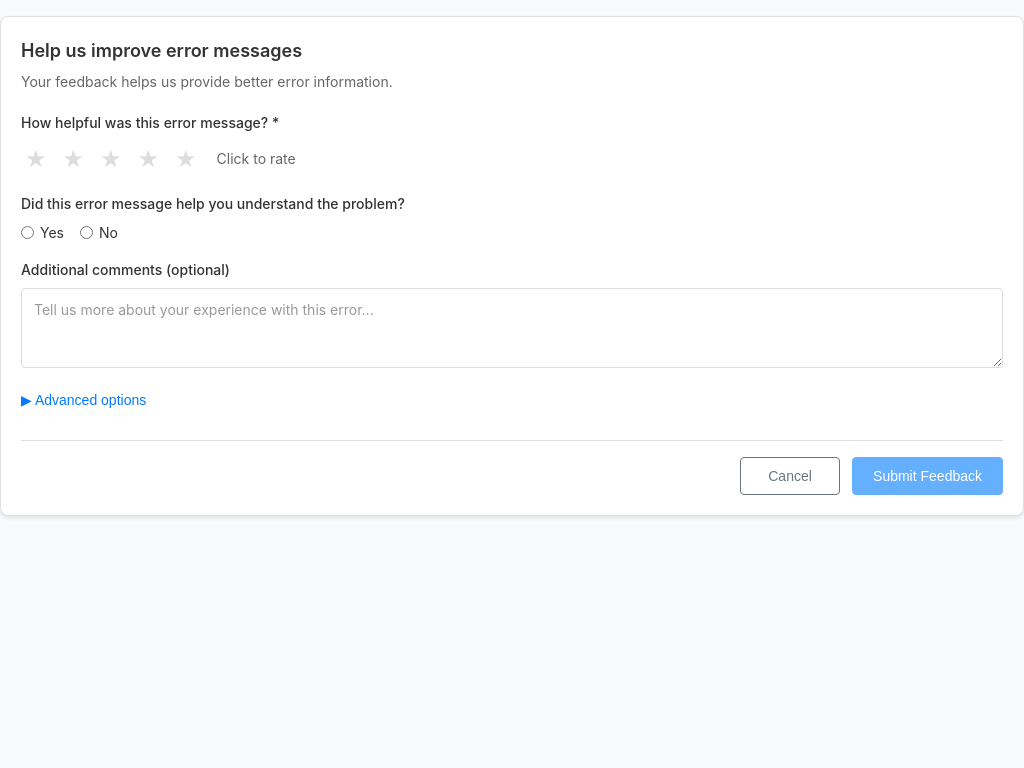
Scenario: ErrorFeedback › Advanced Options › should hide advanced options when toggled off
The width and height of the screenshot is (1024, 768).
Step 1. Click the button "▶ Advanced options" → (89, 400), box [21, 384, 1003, 416]
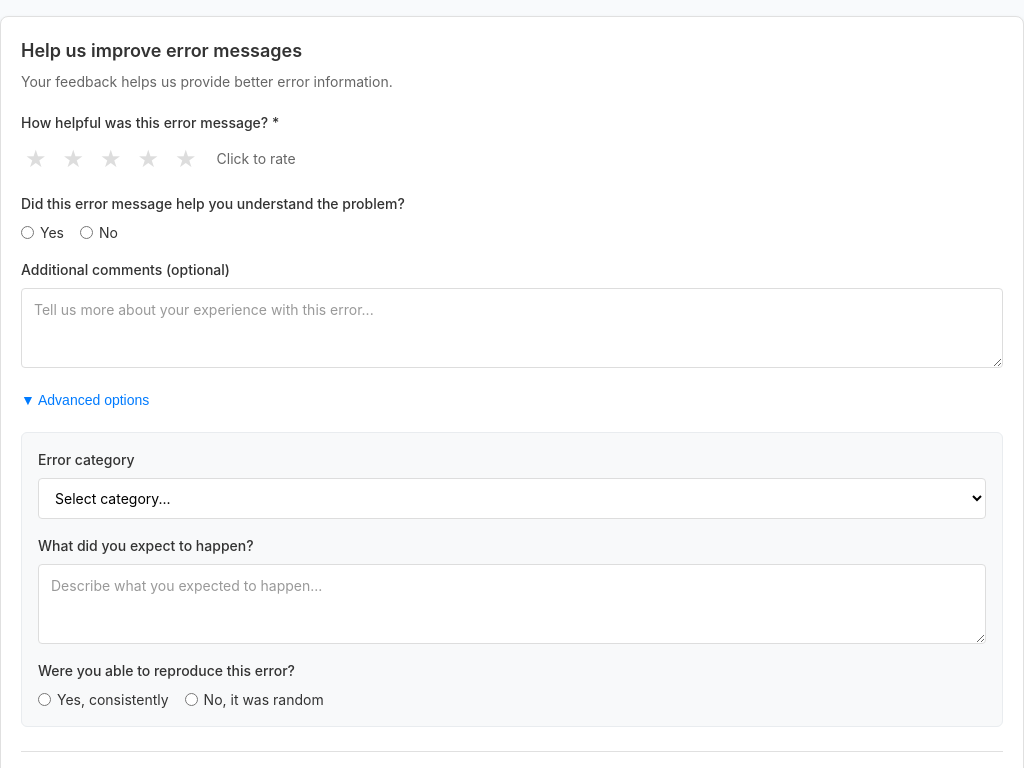
Step 2. Click the button "▼ Advanced options" → (92, 400), box [21, 384, 1003, 416]
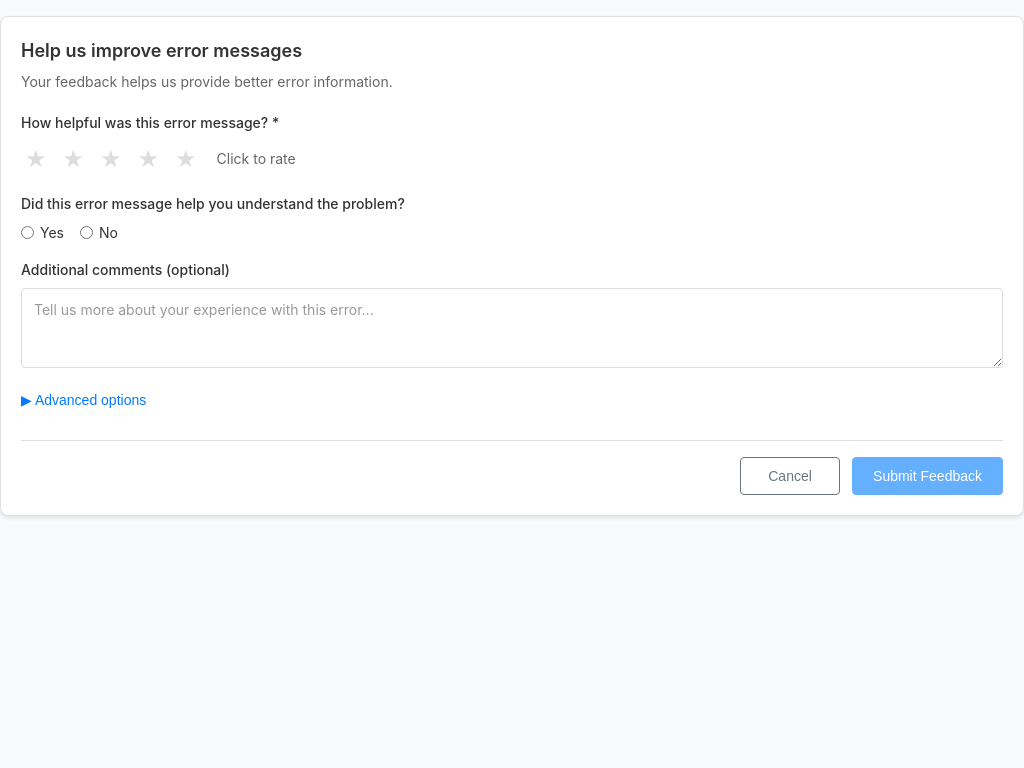
Check: the button "▶ Advanced options" is shown, box [21, 384, 1003, 416]
Check: the label labelled "Error category" is gone
